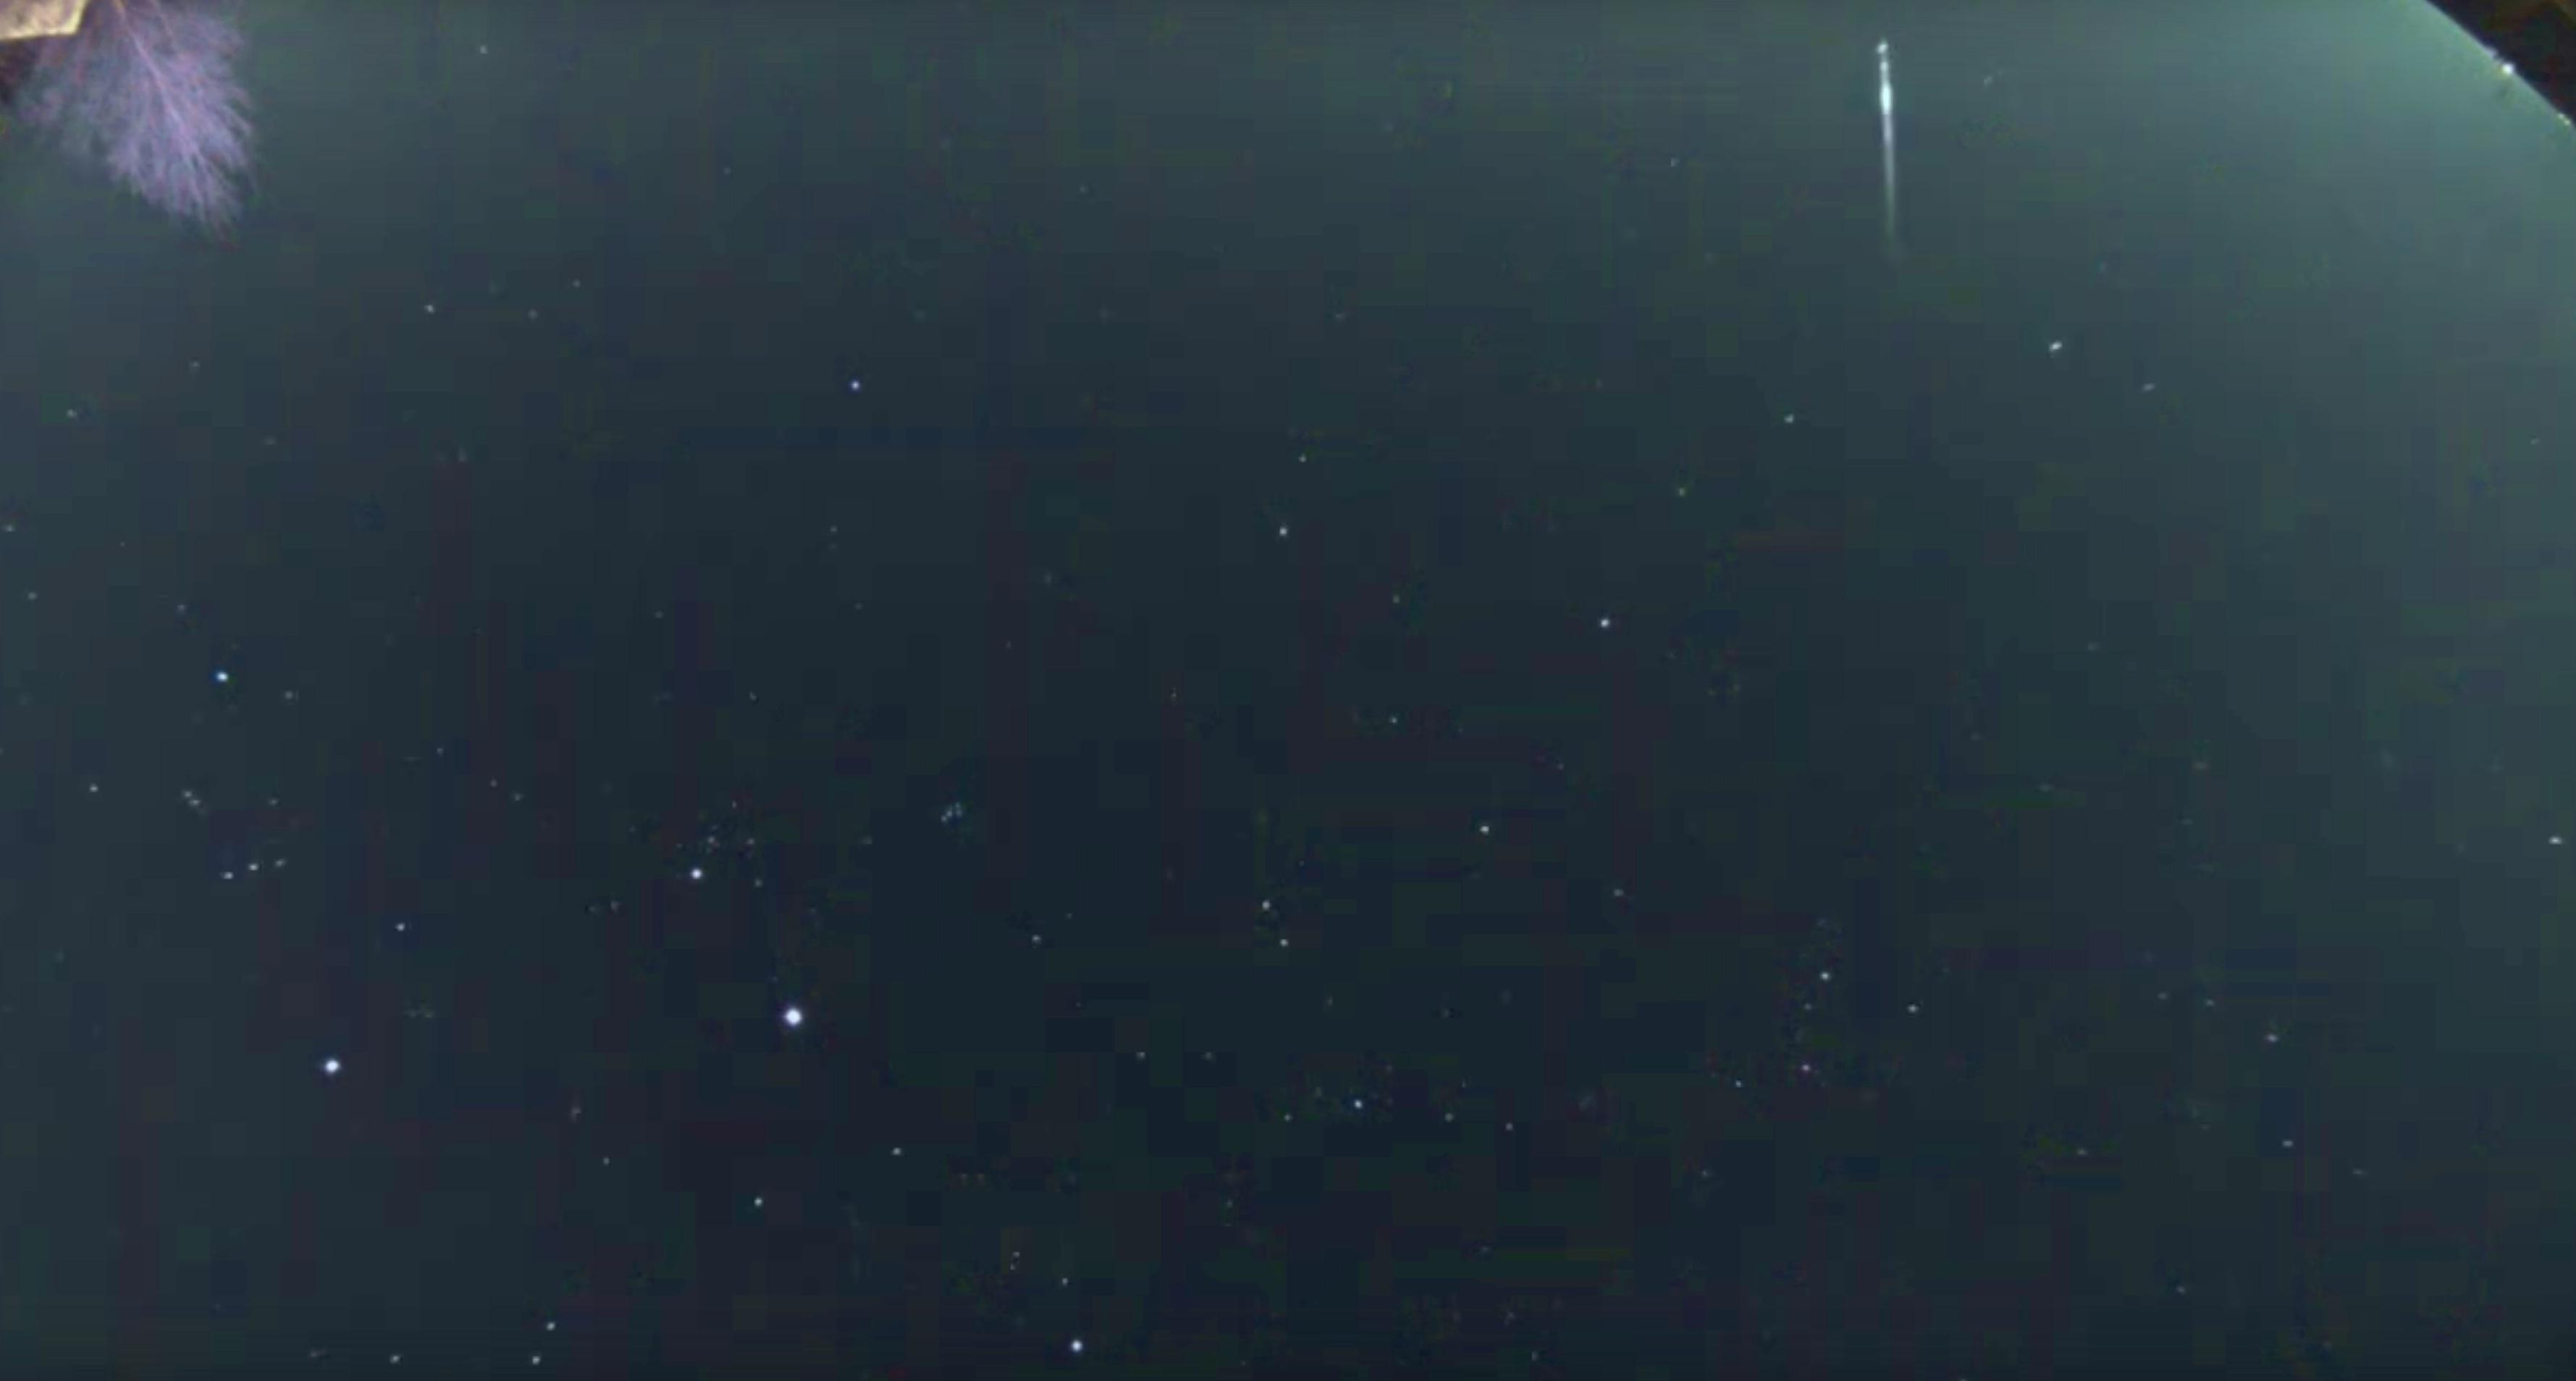meteorite: (1831, 37, 1939, 262)
